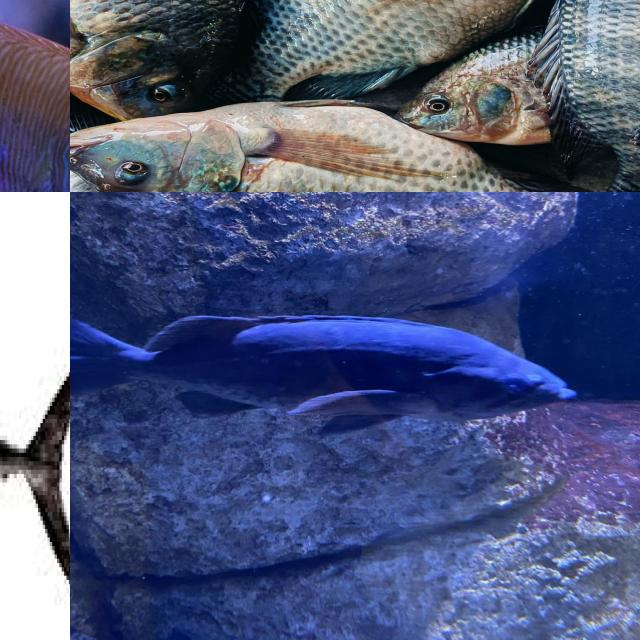fish: (126, 11, 640, 144), (70, 297, 581, 427), (0, 249, 70, 622), (0, 0, 70, 192)
